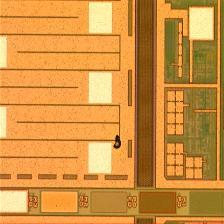PARTICLE: (112, 133, 124, 151)
